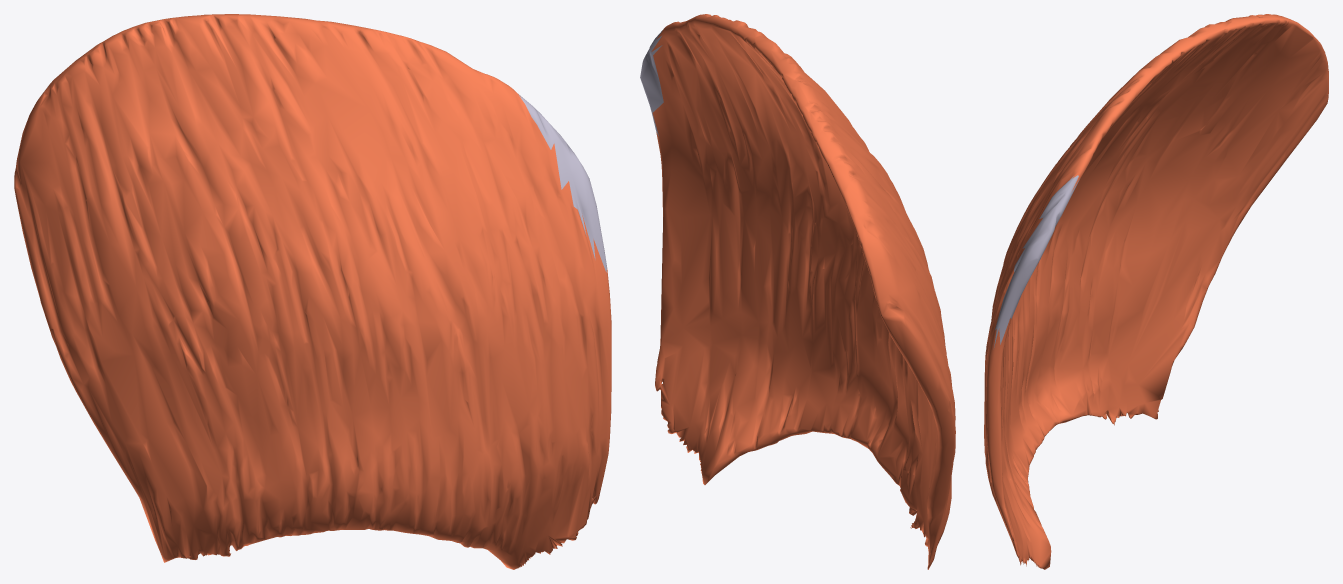
Rendered from Frontalis.r_Generated_Mesh_From_X3D.491.glb.
3 renders of one model, left to right at view 1: azimuth 30°, elevation 25°; view 2: azimuth 150°, elevation 25°; view 3: azimuth 270°, elevation 25°, orthographic. The views are drawn at different scales.
Visible parts, largest first — view 1: Frontalis.r_Generated_Mesh_From_X3D.491; view 2: Frontalis.r_Generated_Mesh_From_X3D.491; view 3: Frontalis.r_Generated_Mesh_From_X3D.491.
Boxes of the visible parts, x1,y1,x2,y2 form: Frontalis.r_Generated_Mesh_From_X3D.491: [14, 14, 611, 569]; Frontalis.r_Generated_Mesh_From_X3D.491: [640, 14, 955, 569]; Frontalis.r_Generated_Mesh_From_X3D.491: [984, 14, 1328, 569].
Size of the model in its own units: 0.0584 by 0.0701 by 0.0469.
